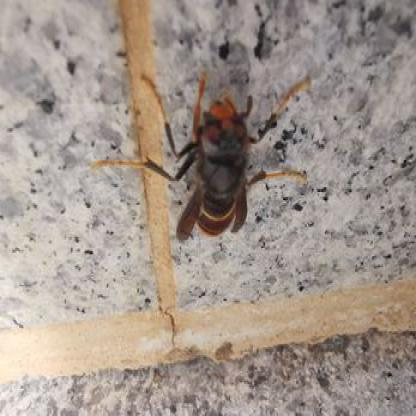Asian Hornet: (91, 64, 312, 244)
